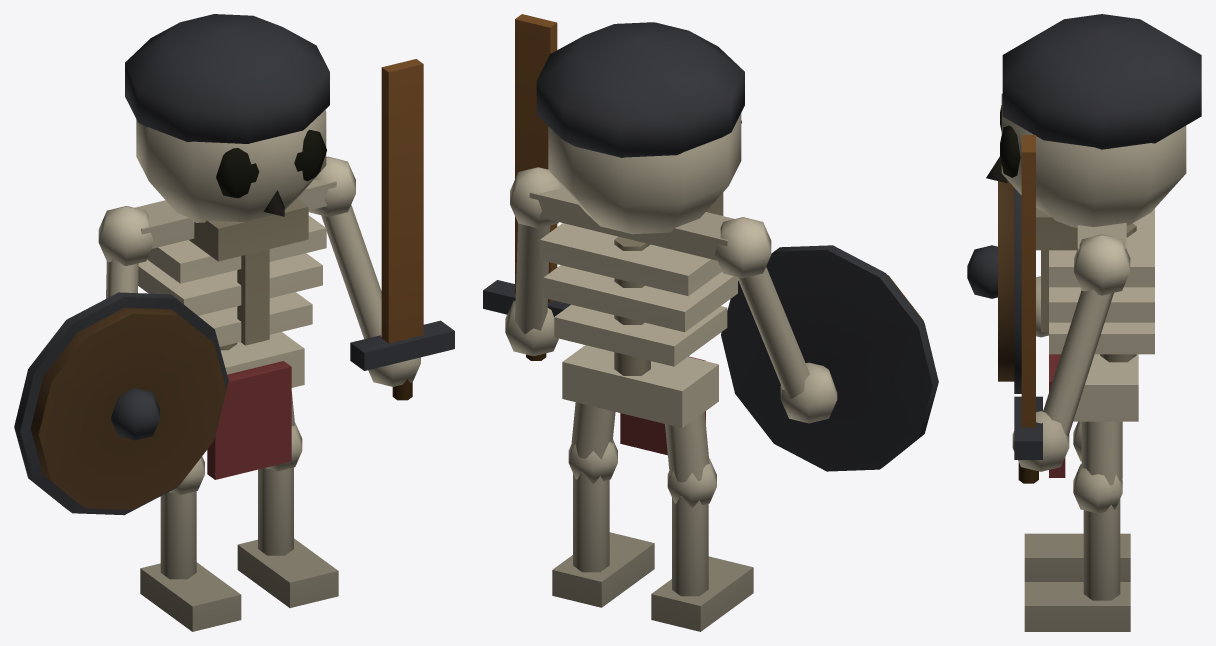
The model's file is skeleton.glb.
The picture shows the model from 3 angles, left to right: view 1: azimuth 30°, elevation 25°; view 2: azimuth 150°, elevation 25°; view 3: azimuth 270°, elevation 25°; orthographic projection.
Parts seen in each view (by area): view 1: skeleton_model; view 2: skeleton_model; view 3: skeleton_model.
Boxes of the visible parts, box(x1,y1,x2,y2) form: skeleton_model: box(14, 14, 454, 631); skeleton_model: box(483, 14, 938, 631); skeleton_model: box(967, 14, 1201, 631).
Size of the model in its own units: 1.25 by 1.53 by 0.5748.
